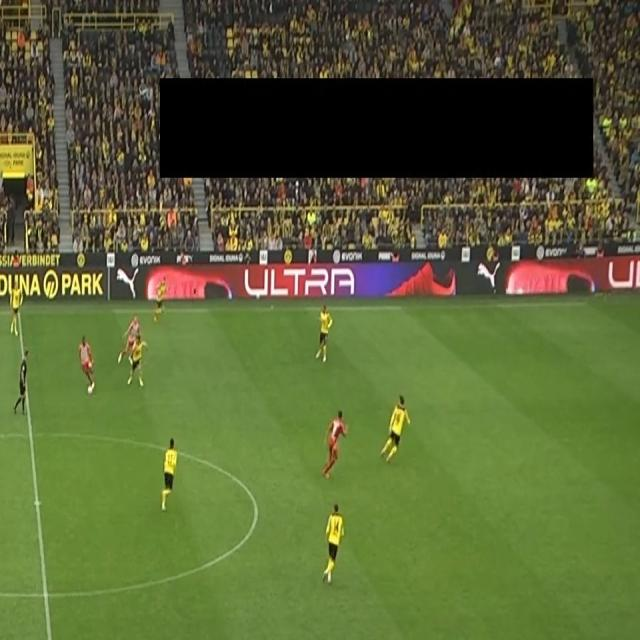ball: (86, 383, 93, 398)
